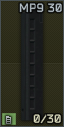MP9 9x19 30-round magazine: (0, 0, 64, 127)
